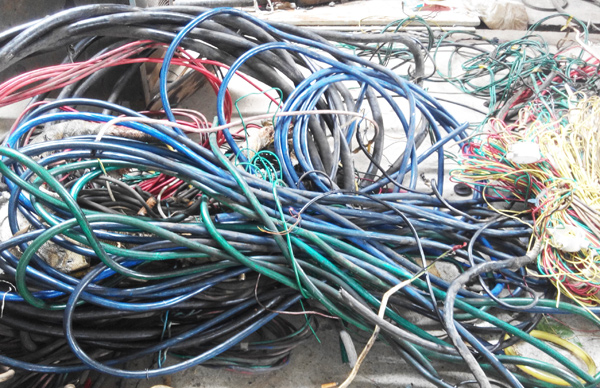more_tube: (268, 179, 576, 372), (14, 111, 208, 315), (153, 15, 378, 159)
